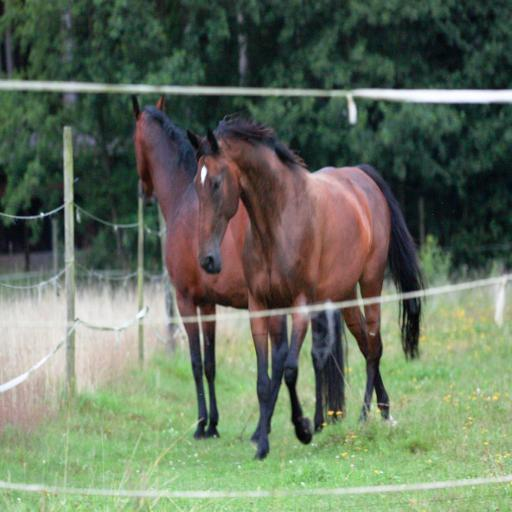horse: (185, 114, 429, 460), (132, 91, 347, 433)
